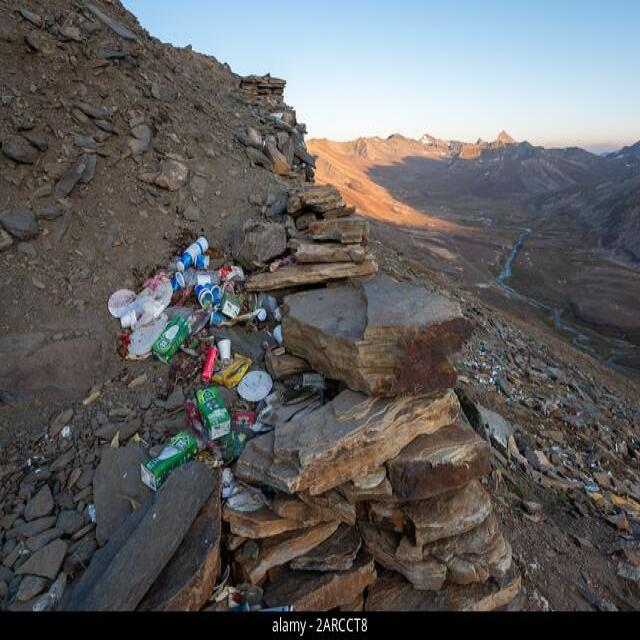cardboard: (145, 428, 181, 490), (196, 391, 230, 444), (151, 325, 189, 361)
plastic: (122, 286, 176, 334), (174, 238, 206, 272), (244, 375, 275, 402), (197, 288, 223, 306), (217, 269, 243, 281), (218, 341, 234, 356)
